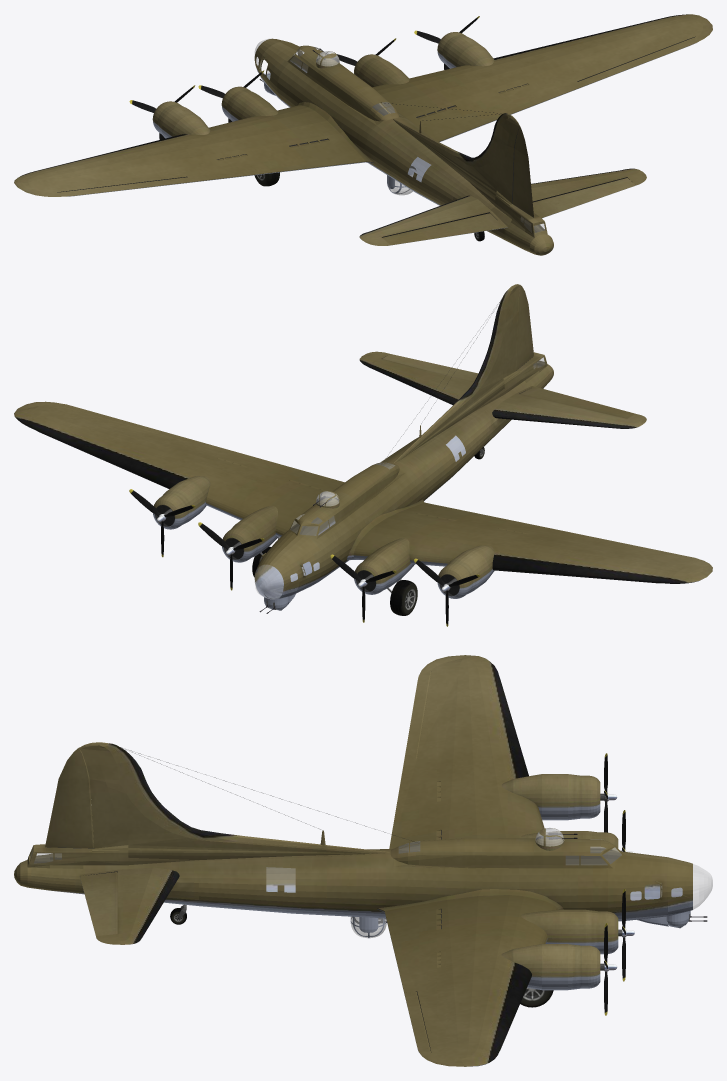
The picture shows the model from 3 angles, top to bottom: view 1: azimuth 30°, elevation 25°; view 2: azimuth 150°, elevation 25°; view 3: azimuth 270°, elevation 25°; orthographic projection. The views are drawn at different scales.
Visible parts, largest first — view 1: airframe, elevator, rudder, aileron_r, aileron_l; view 2: airframe, elevator, rudder, gear_roueG, aileron_r; view 3: airframe, rudder, elevator, aileron_l, aileron_r.
Part boxes in pixels (<box>): airframe: <box>14,14,712,255</box>; elevator: <box>382,178,635,245</box>; rudder: <box>512,127,533,217</box>; aileron_r: <box>578,37,699,87</box>; aileron_l: <box>57,177,192,196</box>; airframe: <box>14,284,712,613</box>; elevator: <box>382,354,635,418</box>; rudder: <box>516,285,533,370</box>; gear_roueG: <box>390,580,417,615</box>; aileron_r: <box>57,403,191,441</box>; airframe: <box>14,655,712,1066</box>; rudder: <box>45,748,93,848</box>; elevator: <box>80,810,117,935</box>; aileron_l: <box>404,671,431,759</box>; aileron_r: <box>404,991,430,1054</box>.
Bounding box in the file's own units: 31.52 × 7.94 × 22.61.
Materials: 10 (6 with a texture image).
